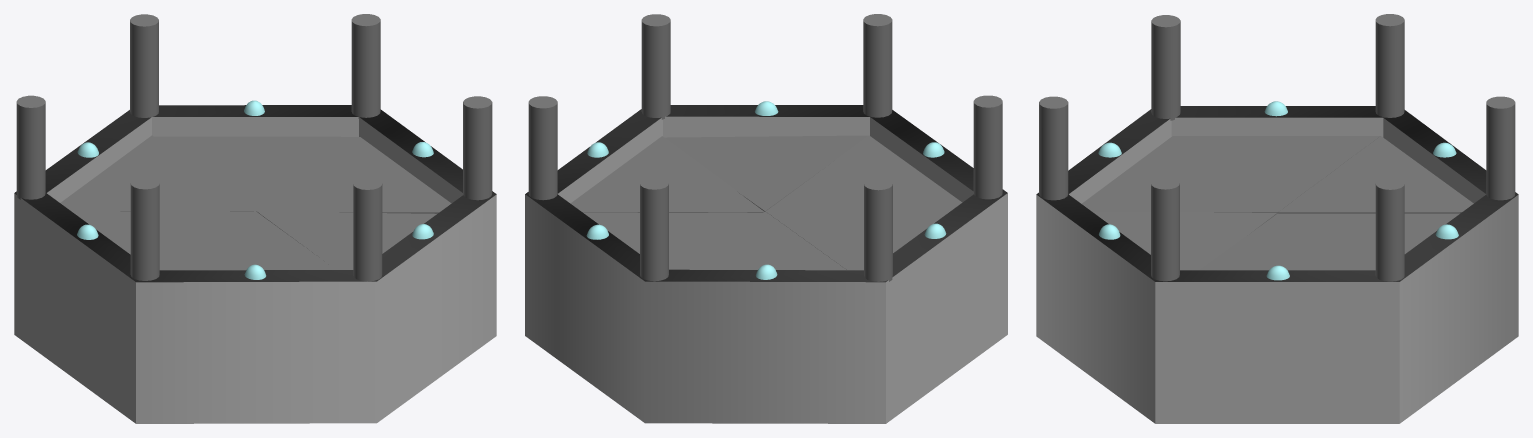
The model's file is MiningIndustry.fbx.
The picture shows the model from 3 angles, left to right: view 1: azimuth 30°, elevation 25°; view 2: azimuth 150°, elevation 25°; view 3: azimuth 270°, elevation 25°; orthographic projection.
Parts seen in each view (by area): view 1: Base_Sandwormboss; view 2: Base_Sandwormboss; view 3: Base_Sandwormboss.
Part boxes in pixels (x1,y1,x2,y2): Base_Sandwormboss: (14,14,496,423); Base_Sandwormboss: (525,14,1007,423); Base_Sandwormboss: (1036,14,1518,423).
Bounding box in the file's own units: 84.57 × 52.27 × 97.8.
Materials: 1 (1 with a texture image).
